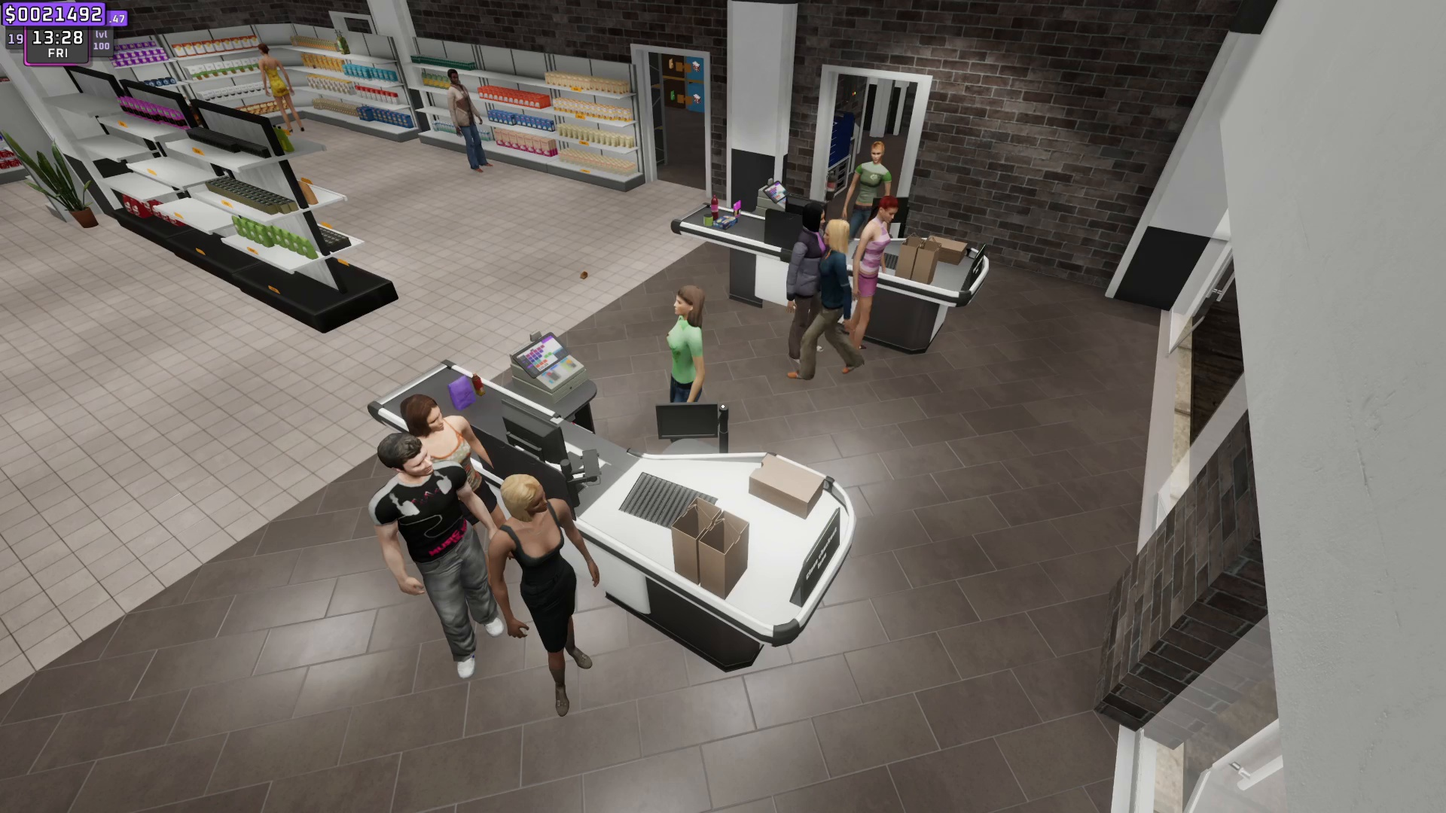Client: (367, 438, 493, 659), (495, 474, 605, 698), (403, 398, 492, 517), (779, 202, 833, 346), (860, 197, 907, 360), (818, 223, 862, 375)
Employee: (839, 129, 896, 223), (665, 291, 710, 406)
